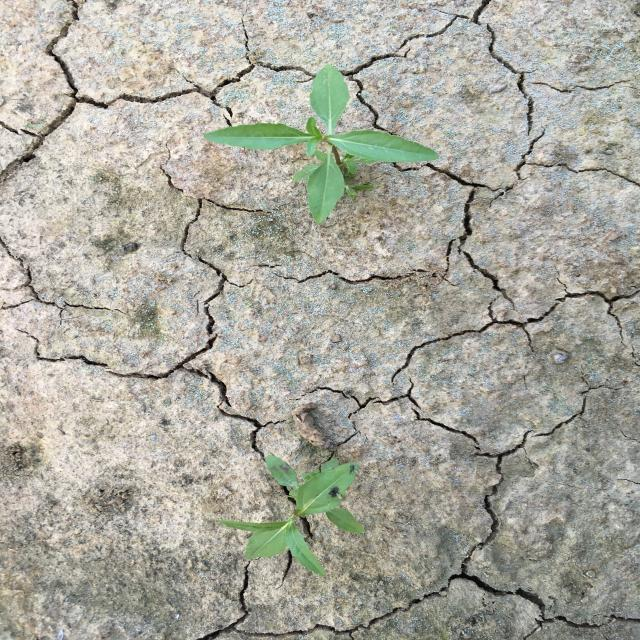Eclipta: (200, 62, 441, 228), (210, 450, 369, 579)
